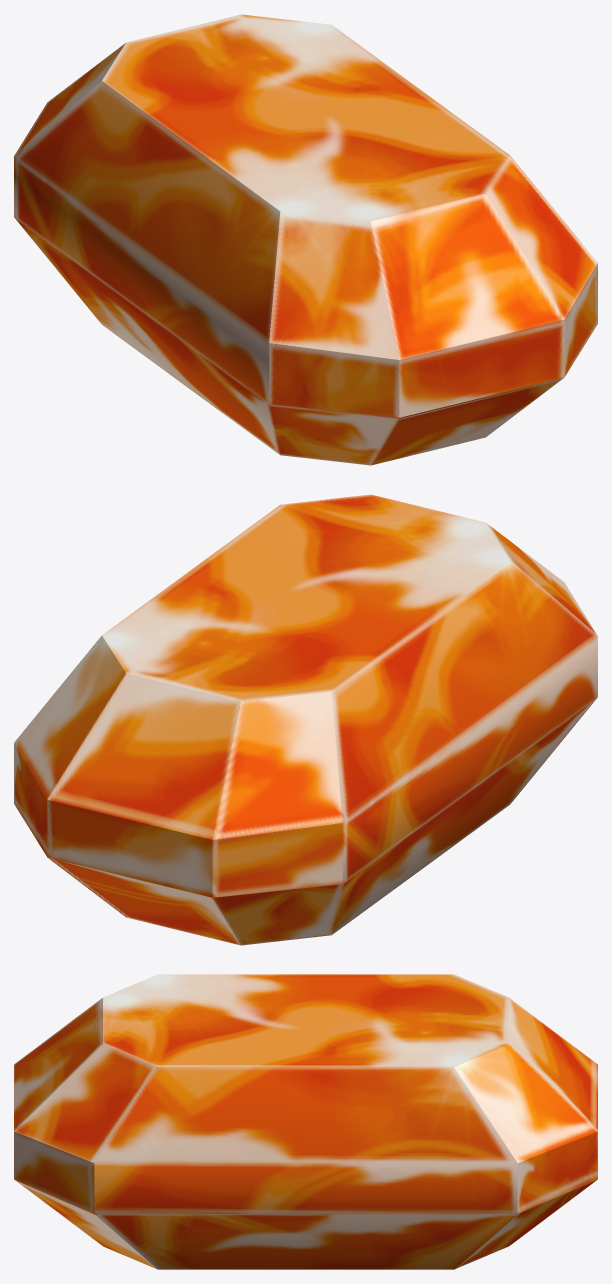
Rendered from stone_orange_003.fbx.
The picture shows the model from 3 angles, top to bottom: view 1: azimuth 30°, elevation 25°; view 2: azimuth 150°, elevation 25°; view 3: azimuth 270°, elevation 25°; orthographic projection. The views are drawn at different scales.
Visible parts, largest first — view 1: stone; view 2: stone; view 3: stone.
Boxes of the visible parts, <box> form: stone: <box>14,14,597,465</box>; stone: <box>14,494,597,945</box>; stone: <box>14,974,597,1269</box>.
Size of the model in its own units: 4.53 by 3.21 by 8.4.
